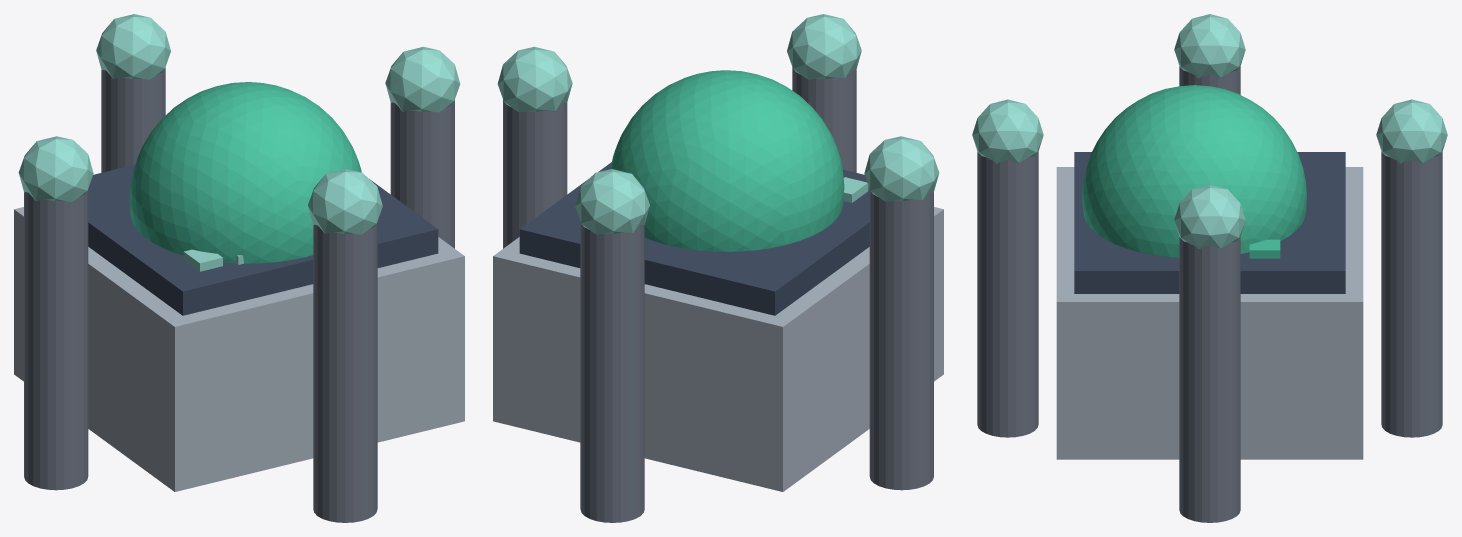
The model's file is aux-kami.glb.
The picture shows the model from 3 angles, left to right: view 1: azimuth 30°, elevation 25°; view 2: azimuth 150°, elevation 25°; view 3: azimuth 270°, elevation 25°; orthographic projection. The views are drawn at different scales.
Visible parts, largest first — view 1: part000, part002, part006, part008, part001, part004, part010, part005, part007, part011, part009, part015; view 2: part000, part002, part010, part008, part001, part004, part005, part011, part007, part009, part006; view 3: part000, part002, part006, part010, part004, part001, part007, part011, part009, part005, part008, part017.
Part boxes in pixels (box(x1,y1,x2,y2)): part000: box(14, 207, 464, 491); part002: box(129, 82, 361, 263); part006: box(313, 221, 377, 522); part008: box(24, 189, 88, 490); part001: box(88, 164, 438, 315); part004: box(390, 100, 454, 248); part010: box(101, 67, 165, 172); part005: box(385, 46, 460, 112); part007: box(308, 169, 382, 234); part011: box(96, 14, 170, 79); part009: box(18, 136, 93, 201); part015: box(183, 249, 222, 271); part000: box(493, 207, 943, 491); part002: box(610, 70, 844, 251); part010: box(580, 221, 644, 522); part008: box(869, 189, 933, 490); part001: box(519, 162, 869, 315); part004: box(503, 100, 567, 248); part005: box(497, 46, 572, 112); part011: box(575, 169, 649, 234); part007: box(787, 14, 861, 79); part009: box(864, 136, 939, 201); part006: box(792, 67, 856, 172); part000: box(1056, 167, 1363, 459); part002: box(1082, 85, 1306, 257); part006: box(977, 151, 1038, 437); part010: box(1381, 151, 1442, 437); part004: box(1179, 237, 1240, 522); part001: box(1074, 152, 1345, 293); part007: box(972, 99, 1043, 163); part011: box(1376, 99, 1447, 163); part009: box(1174, 14, 1245, 78); part005: box(1174, 185, 1245, 248); part008: box(1179, 66, 1240, 94); part017: box(1249, 239, 1280, 258).
Bounding box in the file's own units: 1.86 × 1.42 × 1.86.
